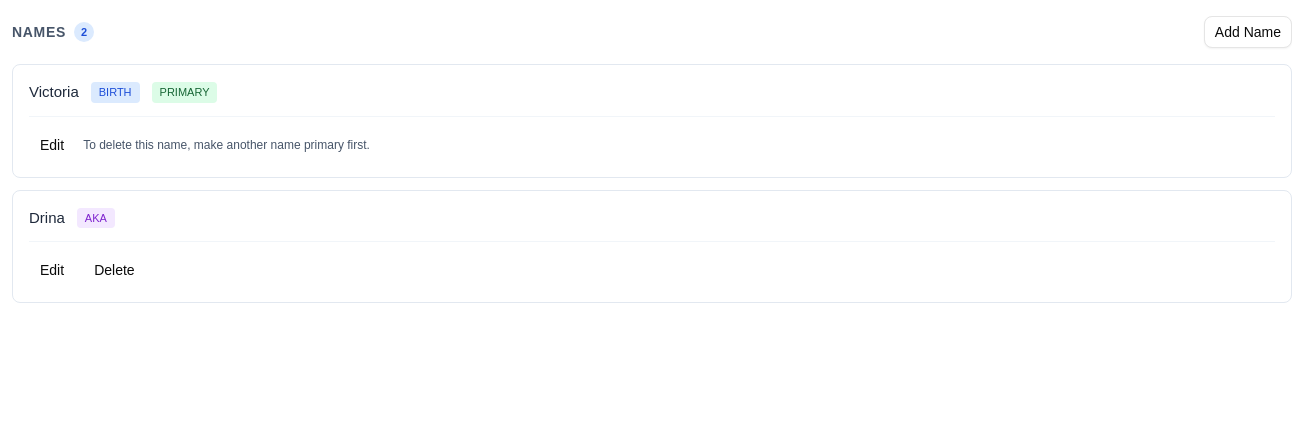
Test: NameSection › deleting a name › offers a retry when the delete still hits a stale version
What coordinates should you click on to do the following:
click the button "Delete"
I would click on:
 (114, 270)
Its box is left=83, top=254, right=146, bottom=286.
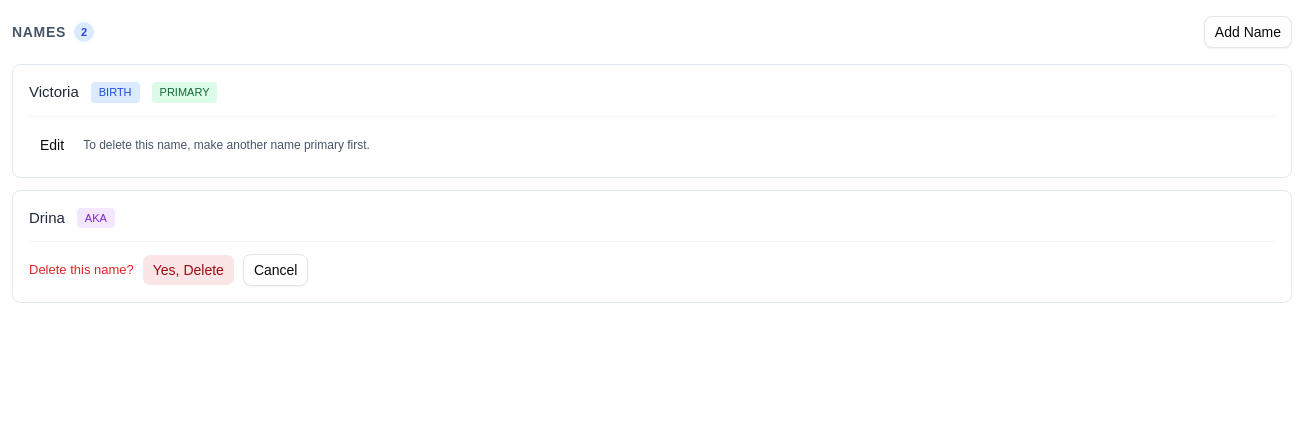
What coordinates should you click on to do the following:
click the button "Yes, Delete"
I would click on:
 (188, 270)
Its box is left=142, top=254, right=235, bottom=286.
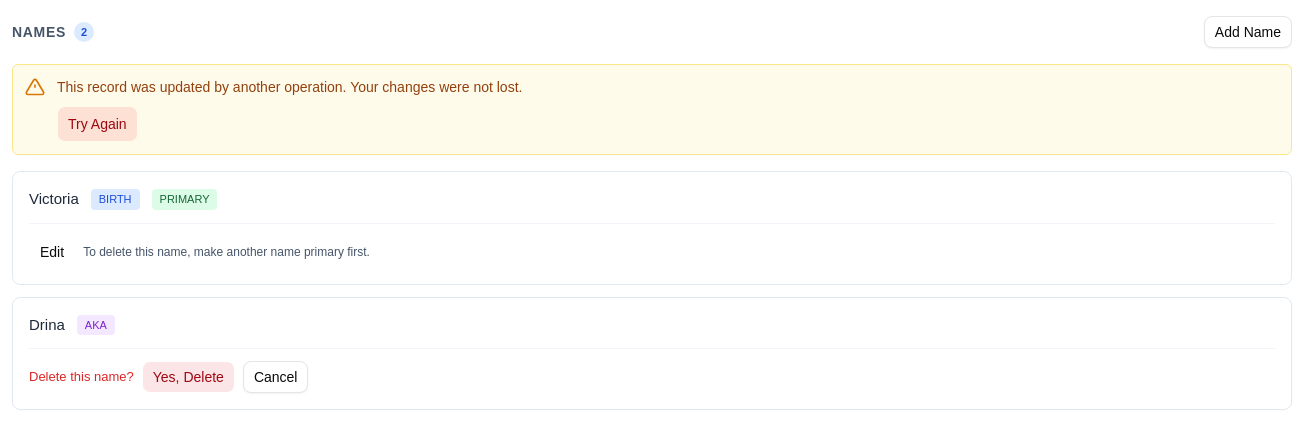
Now the button "Try Again" is shown, box left=57, top=106, right=138, bottom=142
